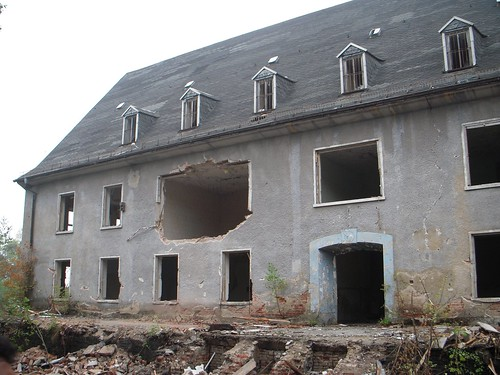building: (21, 1, 500, 308)
